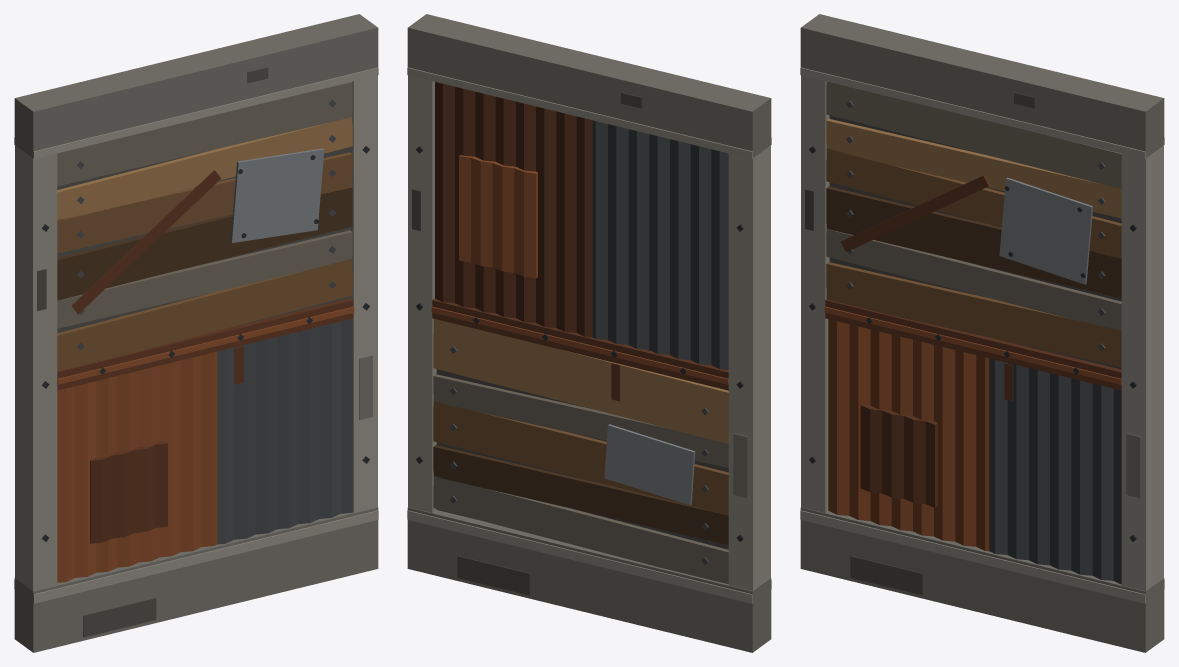
Rendered from piece_wall.fbx.
3 renders of one model, left to right at view 1: azimuth 30°, elevation 25°; view 2: azimuth 150°, elevation 25°; view 3: azimuth 330°, elevation 25°, orthographic.
Parts seen in each view (by area): view 1: piece_wall; view 2: piece_wall; view 3: piece_wall.
Boxes of the visible parts, x1=… form: piece_wall: x1=14, y1=14, x2=378, y2=652; piece_wall: x1=407, y1=14, x2=771, y2=652; piece_wall: x1=800, y1=14, x2=1164, y2=652.
Bounding box in the file's own units: 2 × 3 × 0.2.
